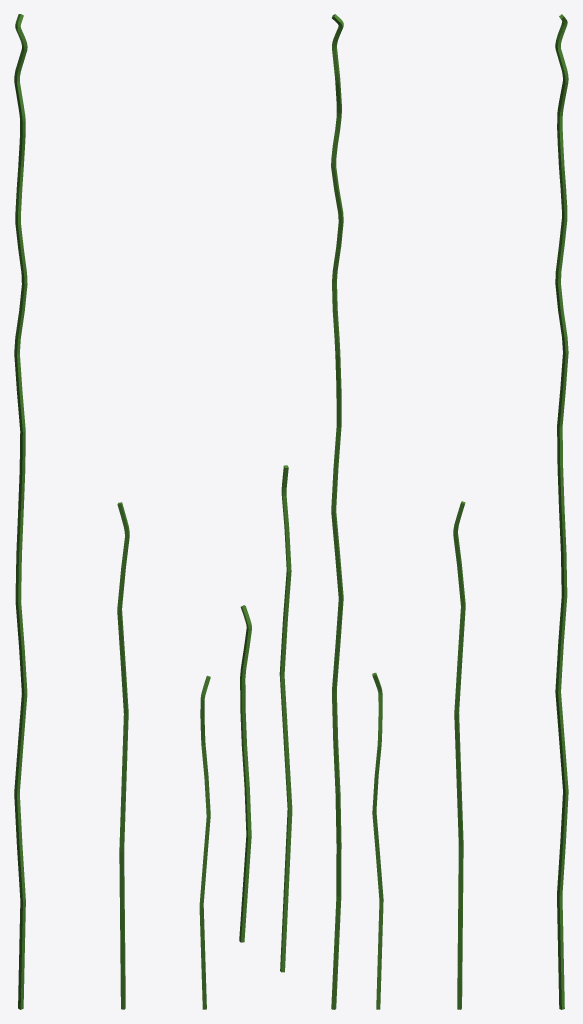
Rendered from Vines.fbx.
3 renders of one model, left to right at view 1: azimuth 90°, elevation 25°; view 2: azimuth 210°, elevation 25°; view 3: azimuth 270°, elevation 25°, orthographic.
Parts seen in each view (by area): view 1: Vine_3, Vine_2, Vine_1; view 2: Vine_3, Vine_2, Vine_1; view 3: Vine_3, Vine_2, Vine_1.
Boxes of the visible parts, x1,y1,x2,y2 form: Vine_3: (14, 14, 27, 1009); Vine_2: (117, 502, 129, 1009); Vine_1: (199, 675, 210, 1009); Vine_3: (331, 14, 343, 1009); Vine_2: (279, 465, 292, 972); Vine_1: (239, 605, 251, 942); Vine_3: (555, 14, 568, 1009); Vine_2: (453, 501, 465, 1009); Vine_1: (372, 672, 383, 1009).
Size of the model in its own units: 32.56 by 2728 by 488.
